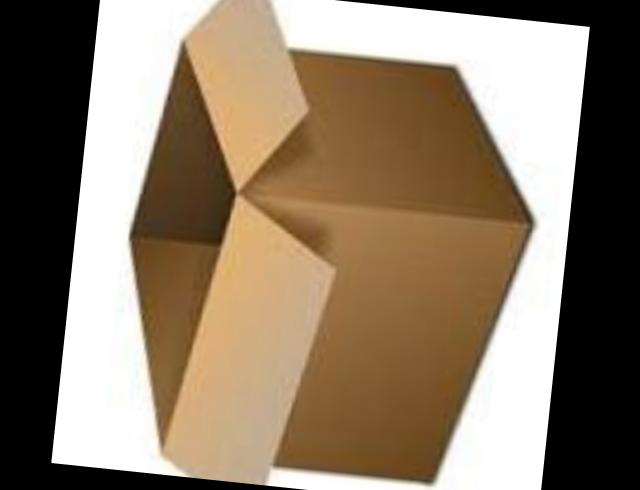cardboard paper: (125, 0, 524, 485)
